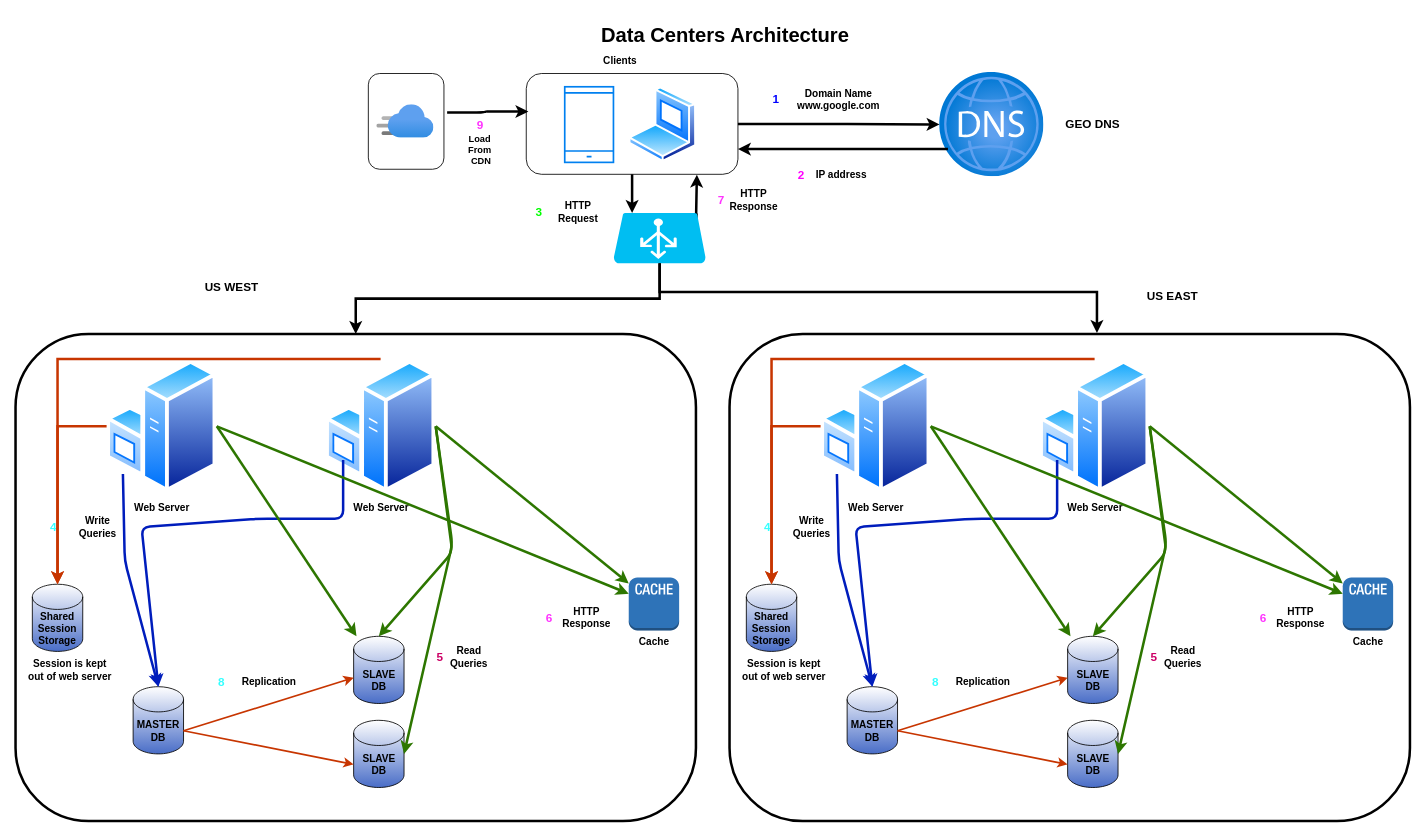
Image size: 1425x837. Some labels were removed from this diagram. Each missing label, with the centre of its shape:
CDN: point 404,121
Load Balancer: point 659,238
